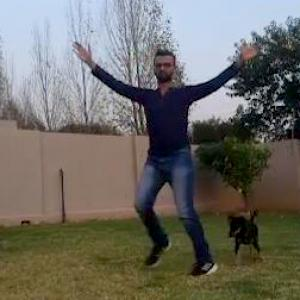takeoff: (110, 46, 278, 278)
